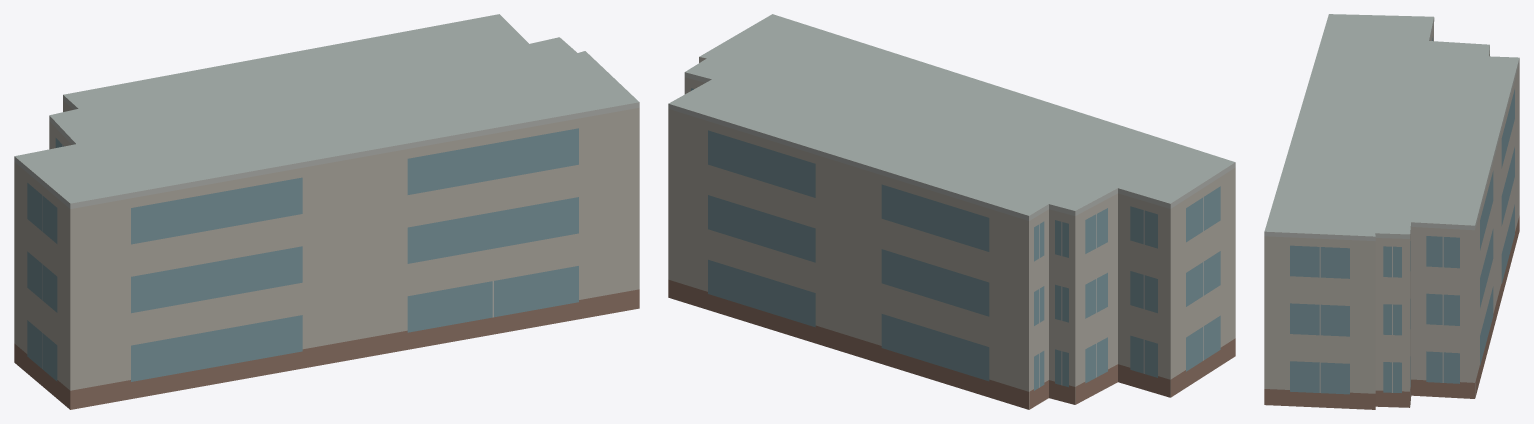
The model's file is survey-upis-32658086.glb.
3 views of the same model, side by side, from view 1: azimuth 30°, elevation 25°; view 2: azimuth 150°, elevation 25°; view 3: azimuth 270°, elevation 25° (orthographic). The views are drawn at different scales.
Parts seen in each view (by area): view 1: survey-upis-32658086.tmp; view 2: survey-upis-32658086.tmp; view 3: survey-upis-32658086.tmp.
Part boxes in pixels (x1,y1,x2,y2): survey-upis-32658086.tmp: (14, 14, 639, 409); survey-upis-32658086.tmp: (668, 14, 1235, 409); survey-upis-32658086.tmp: (1264, 14, 1519, 409).
Bounding box in the file's own units: 25.21 × 9.15 × 12.22.
